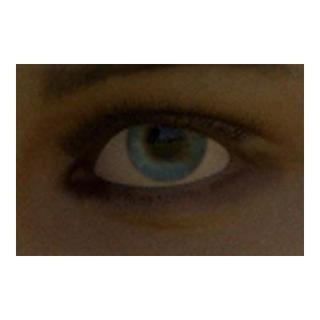pupil: (149, 123, 182, 157)
